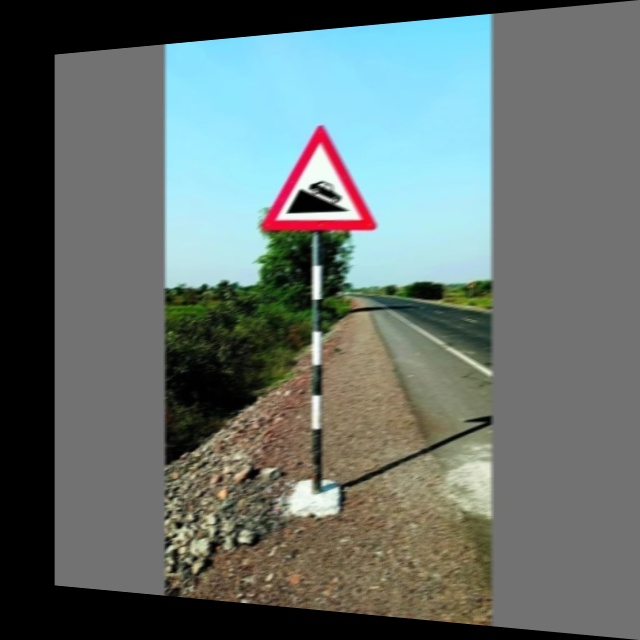Steep_Descent: (263, 121, 370, 231)
